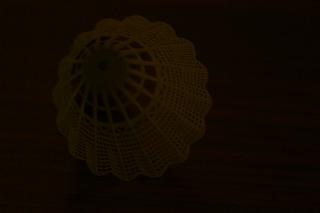shuttlecock: (53, 16, 211, 179)
